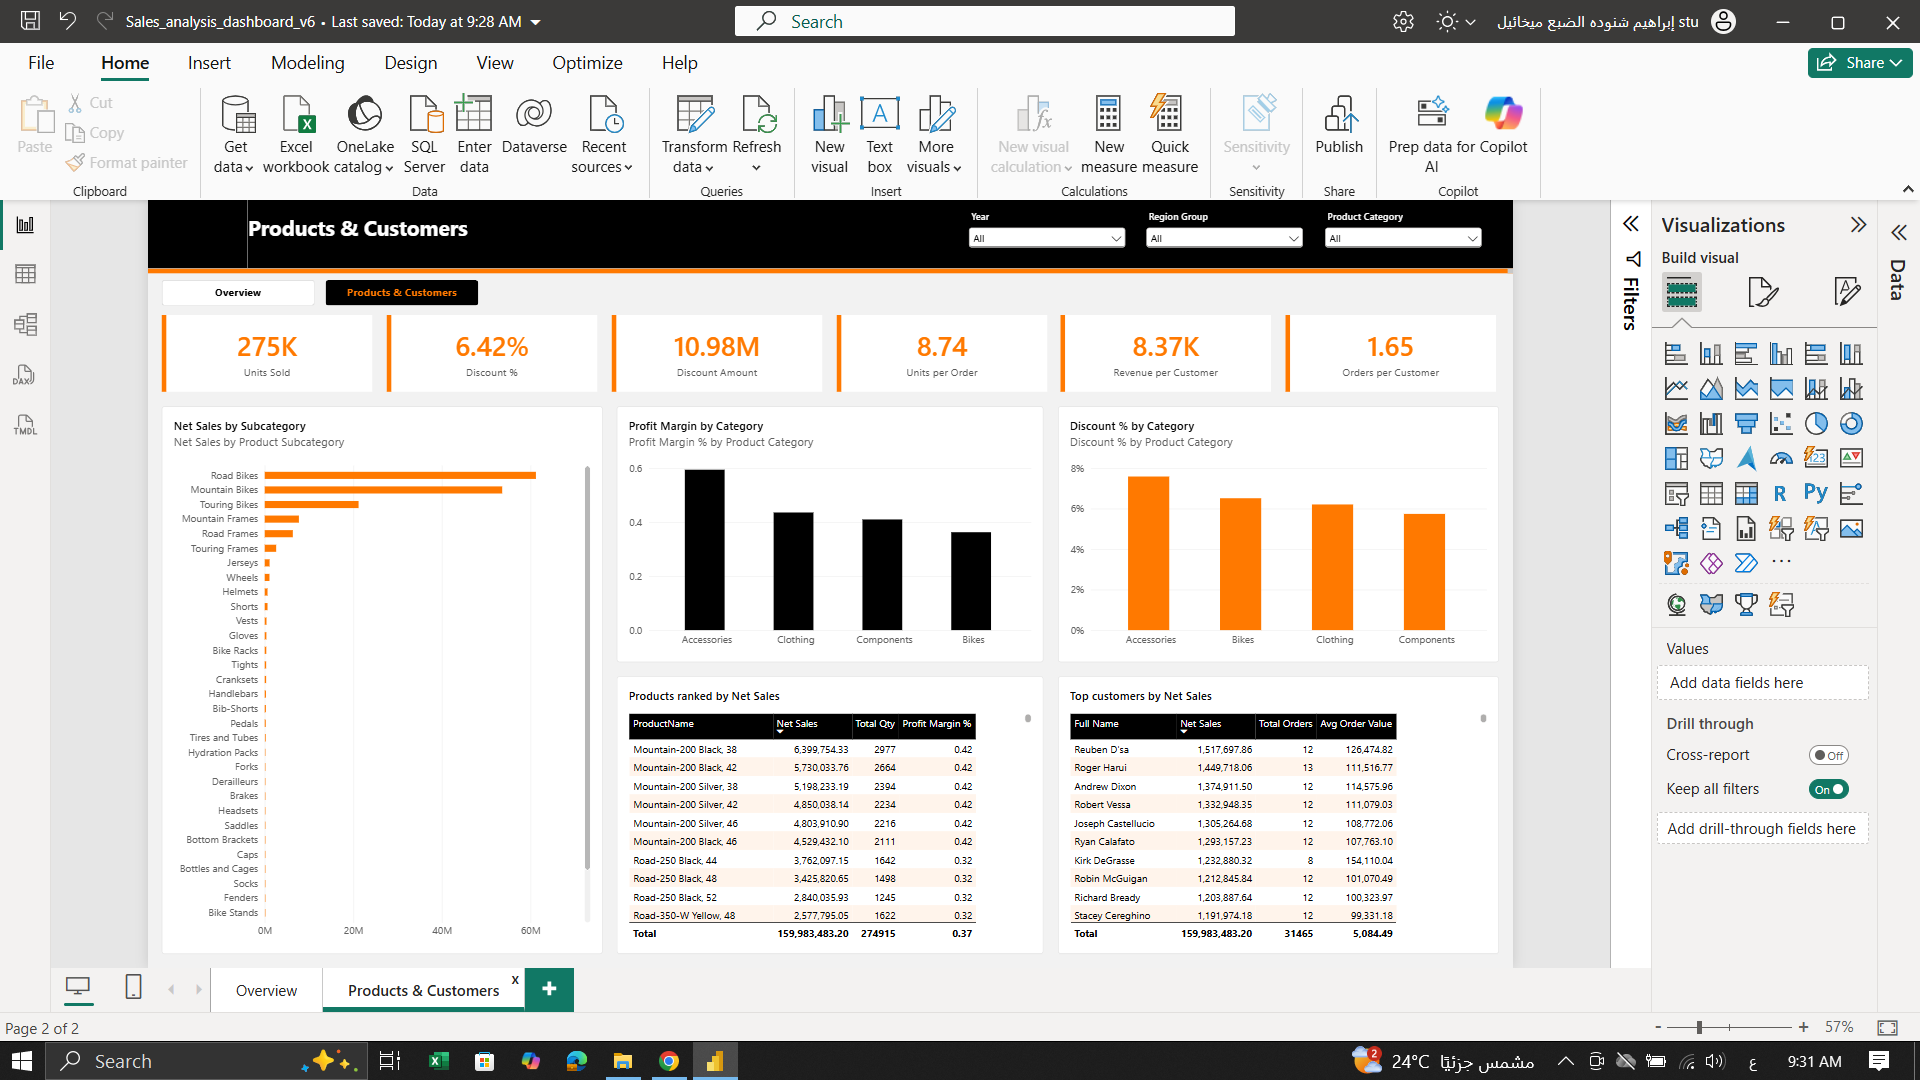

The page's visual inventory and layout, read from the dashboard file:
{"tool":"powerbi","page":{"name":"Products & Customers","canvas":[1920,1080],"ordinal":1},"visuals":[{"type":"textbox","box":[140,0,1780,96],"z":1000},{"type":"textbox","box":[0,0,140,96],"z":2000},{"type":"textbox","box":[0,96,1920,6],"z":3000},{"type":"slicer","fields":{"Values":["Fact_Sales.OrderDate.Variation.Date Hierarchy.Year"]},"box":[1150,14,230,70],"z":4000},{"type":"slicer","fields":{"Values":["Dim_Region.Region Group"]},"box":[1400,14,230,70],"z":5000},{"type":"slicer","fields":{"Values":["Dim_Products.Product Category"]},"box":[1650,14,230,70],"z":6000},{"type":"actionButton","box":[20,112,215,36],"z":7000},{"type":"actionButton","box":[250,112,215,36],"z":8000},{"type":"card","fields":{"Values":["Measures_Table.Total Qty"]},"box":[20,162,296,108],"z":9000},{"type":"textbox","box":[20,162,6,108],"z":10000},{"type":"card","fields":{"Values":["Measures_Table.Discount %"]},"box":[336,162,296,108],"z":11000},{"type":"textbox","box":[336,162,6,108],"z":12000},{"type":"card","fields":{"Values":["Measures_Table.Discount Amount"]},"box":[652,162,296,108],"z":13000},{"type":"textbox","box":[652,162,6,108],"z":14000},{"type":"card","fields":{"Values":["Measures_Table.Units per Order"]},"box":[968,162,296,108],"z":15000},{"type":"textbox","box":[968,162,6,108],"z":16000},{"type":"card","fields":{"Values":["Measures_Table.Revenue per Customer"]},"box":[1284,162,296,108],"z":17000},{"type":"textbox","box":[1284,162,6,108],"z":18000},{"type":"card","fields":{"Values":["Measures_Table.Orders per Customer"]},"box":[1600,162,296,108],"z":19000},{"type":"textbox","box":[1600,162,6,108],"z":20000},{"type":"clusteredBarChart","title":"Net Sales by Subcategory","fields":{"Category":["Dim_Products.Product Subcategory"],"Y":["Measures_Table.Net Sales"]},"box":[20,290,620,770],"z":21000},{"type":"clusteredColumnChart","title":"Profit Margin by Category","fields":{"Category":["Dim_Products.Product Category"],"Y":["Measures_Table.Profit Margin %"]},"box":[660,290,600,360],"z":22000},{"type":"clusteredColumnChart","title":"Discount % by Category","fields":{"Category":["Dim_Products.Product Category"],"Y":["Measures_Table.Discount %"]},"box":[1280,290,620,360],"z":23000},{"type":"tableEx","title":"Products ranked by Net Sales","fields":{"Values":["Dim_Products.ProductName","Measures_Table.Net Sales","Measures_Table.Total Qty","Measures_Table.Profit Margin %"]},"box":[660,670,600,390],"z":24000},{"type":"tableEx","title":"Top customers by Net Sales","fields":{"Values":["Dim_customers.Full Name","Measures_Table.Net Sales","Measures_Table.Total Orders","Measures_Table.Avg Order Value"]},"box":[1280,670,620,390],"z":25000}]}

Visuals, with their boxes on the page's 1920x1080 design canvas (x1, y1, x2, y2). These are canvas units, not pixel positions in the 1920x1080 screenshot, which may show the page scaled, cropped or inside an application window:
textbox: rect(140, 0, 1920, 96)
textbox: rect(0, 0, 140, 96)
textbox: rect(0, 96, 1920, 102)
slicer - Fact_Sales.OrderDate.Variation.Date Hierarchy.Year: rect(1150, 14, 1380, 84)
slicer - Dim_Region.Region Group: rect(1400, 14, 1630, 84)
slicer - Dim_Products.Product Category: rect(1650, 14, 1880, 84)
actionButton: rect(20, 112, 235, 148)
actionButton: rect(250, 112, 465, 148)
card - Measures_Table.Total Qty: rect(20, 162, 316, 270)
textbox: rect(20, 162, 26, 270)
card - Measures_Table.Discount %: rect(336, 162, 632, 270)
textbox: rect(336, 162, 342, 270)
card - Measures_Table.Discount Amount: rect(652, 162, 948, 270)
textbox: rect(652, 162, 658, 270)
card - Measures_Table.Units per Order: rect(968, 162, 1264, 270)
textbox: rect(968, 162, 974, 270)
card - Measures_Table.Revenue per Customer: rect(1284, 162, 1580, 270)
textbox: rect(1284, 162, 1290, 270)
card - Measures_Table.Orders per Customer: rect(1600, 162, 1896, 270)
textbox: rect(1600, 162, 1606, 270)
"Net Sales by Subcategory" clusteredBarChart: rect(20, 290, 640, 1060)
"Profit Margin by Category" clusteredColumnChart: rect(660, 290, 1260, 650)
"Discount % by Category" clusteredColumnChart: rect(1280, 290, 1900, 650)
"Products ranked by Net Sales" tableEx: rect(660, 670, 1260, 1060)
"Top customers by Net Sales" tableEx: rect(1280, 670, 1900, 1060)
